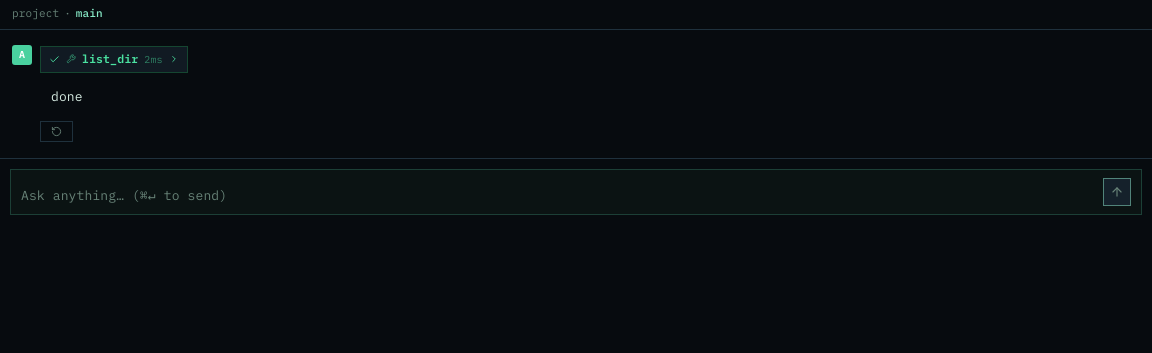
Test: AIChat — ToolBadge result rendering › AIChat_toggleTool_clickingTwiceCollapsesExpanded
Step 1. Click the element with class "tool-badge" → (114, 59), box [40,46,188,73]
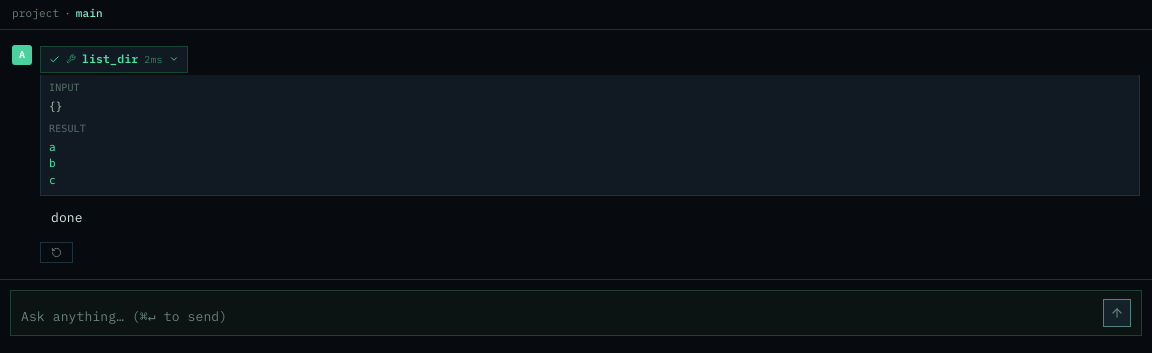
Check: the text "INPUT" is shown, box [49,83,80,94]
Second click: collapsed
Step 2. Click the element with class "tool-badge" → (114, 59), box [40,46,188,73]
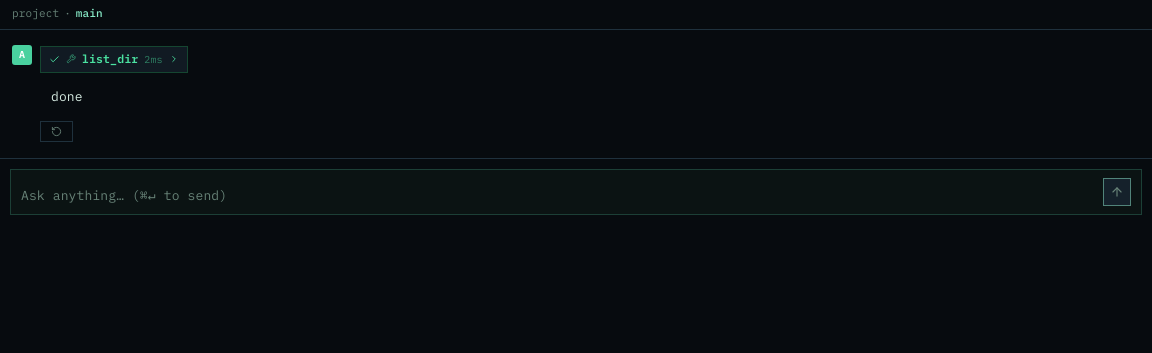
Check: the text "INPUT" is gone
